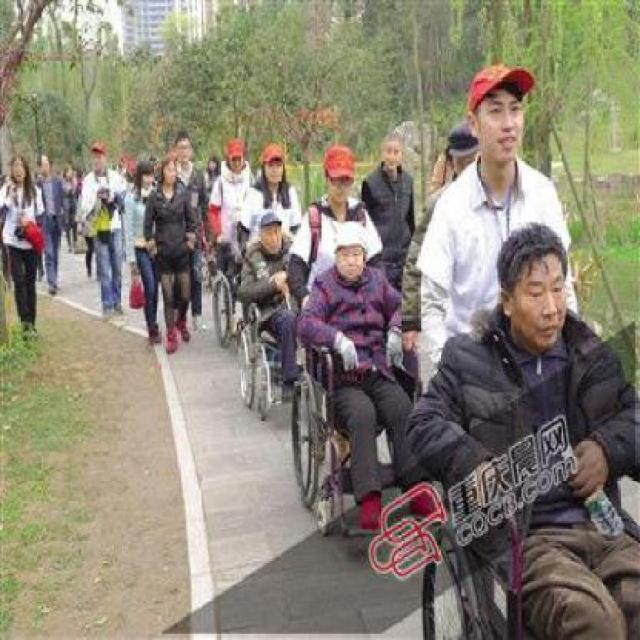people: (435, 62, 557, 416), (288, 143, 395, 380), (144, 153, 199, 361), (357, 128, 421, 302), (76, 142, 130, 333), (0, 145, 46, 346), (212, 145, 254, 337), (26, 154, 68, 294)
peopleWithWheelchair: (422, 222, 640, 638), (292, 228, 437, 544), (237, 211, 323, 420)
